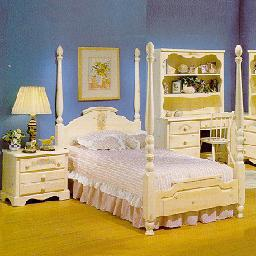Cama: (64, 131, 242, 220)
